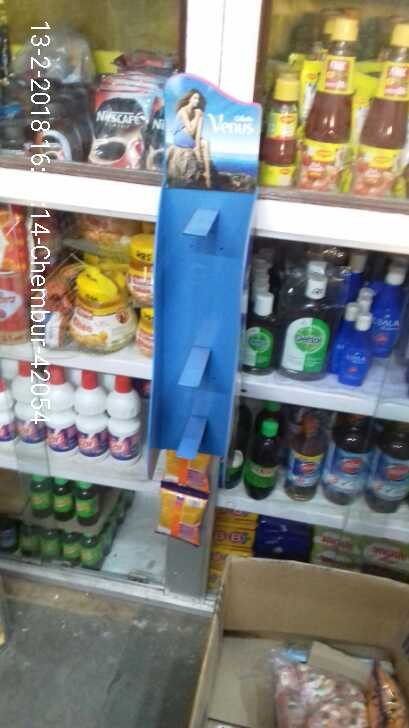reject: (175, 208, 257, 330)
